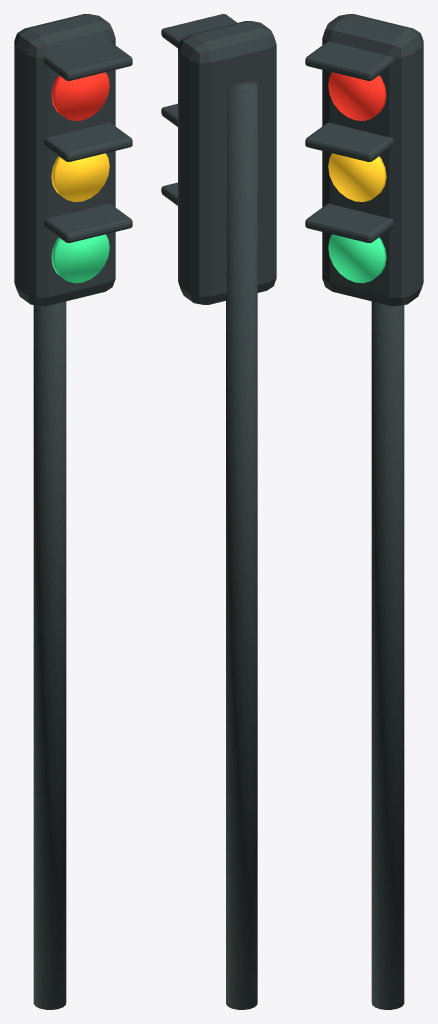
File: site-traffic-signal.glb
3 views of the same model, side by side, from view 1: azimuth 30°, elevation 25°; view 2: azimuth 210°, elevation 25°; view 3: azimuth 330°, elevation 25° (orthographic). The views are drawn at different scales.
Visible parts, largest first — view 1: site-traffic-signal_Anthracite_anodized_metal, site-traffic-signal_City_signal_green, site-traffic-signal_City_signal_amber, site-traffic-signal_City_signal_red; view 2: site-traffic-signal_Anthracite_anodized_metal; view 3: site-traffic-signal_Anthracite_anodized_metal, site-traffic-signal_City_signal_green, site-traffic-signal_City_signal_amber, site-traffic-signal_City_signal_red.
Part boxes in pixels (x1,y1,x2,y2): site-traffic-signal_Anthracite_anodized_metal: (14, 14, 132, 1009); site-traffic-signal_City_signal_green: (51, 234, 109, 283); site-traffic-signal_City_signal_amber: (51, 153, 109, 201); site-traffic-signal_City_signal_red: (51, 72, 109, 120); site-traffic-signal_Anthracite_anodized_metal: (161, 14, 276, 1009); site-traffic-signal_Anthracite_anodized_metal: (305, 14, 423, 1009); site-traffic-signal_City_signal_green: (328, 234, 386, 283); site-traffic-signal_City_signal_amber: (328, 153, 386, 201); site-traffic-signal_City_signal_red: (328, 72, 386, 120).
Bounding box in the file's own units: 0.34 × 3.66 × 0.395.
